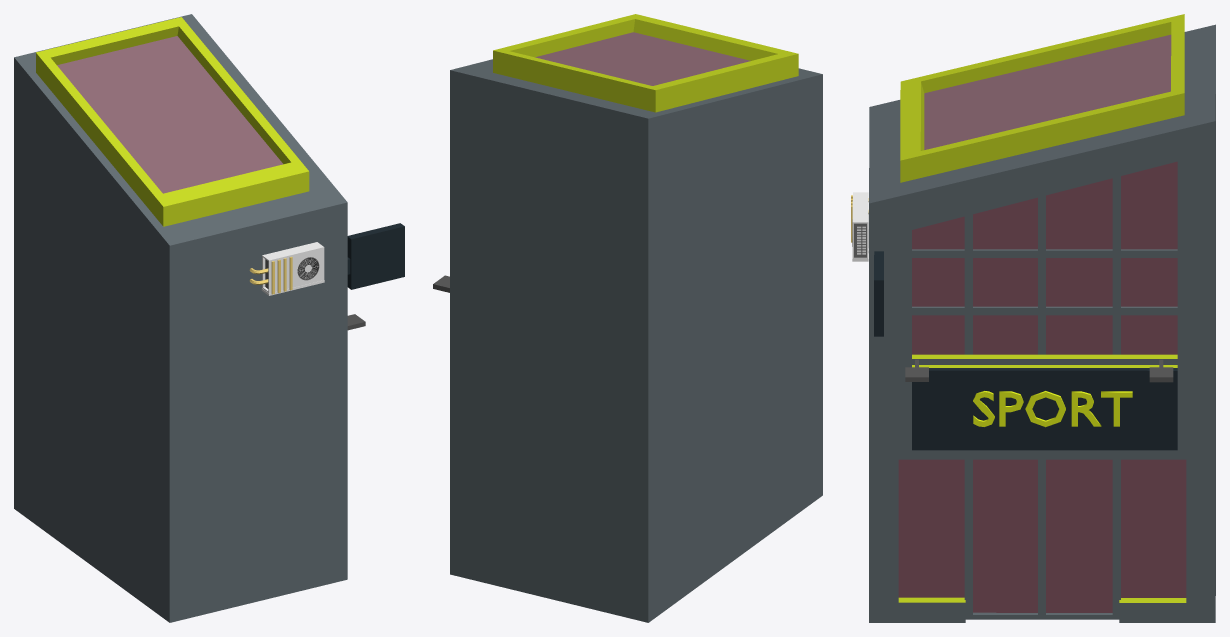
File: Sports_Shop_tran.glb
3 renders of one model, left to right at view 1: azimuth 30°, elevation 25°; view 2: azimuth 150°, elevation 25°; view 3: azimuth 270°, elevation 25°, orthographic. The views are drawn at different scales.
Parts seen in each view (by area): view 1: Cube.13002, Cube.12997, Cube.13000, Cube.13883; view 2: Cube.13002, Cube.12997; view 3: Cube.13002, Cube.12997, Cube.13001, Cube.12998, Text.054, Cube.13883, Cube.13000.
Part boxes in pixels (bbox=[...]): Cube.13002: bbox=[14, 14, 347, 622]; Cube.12997: bbox=[36, 17, 309, 226]; Cube.13000: bbox=[347, 223, 404, 289]; Cube.13883: bbox=[249, 242, 324, 295]; Cube.13002: bbox=[450, 59, 822, 622]; Cube.12997: bbox=[493, 14, 798, 112]; Cube.13002: bbox=[869, 24, 1215, 622]; Cube.12997: bbox=[900, 14, 1184, 182]; Cube.13001: bbox=[912, 365, 1177, 450]; Cube.12998: bbox=[912, 176, 1177, 619]; Text.054: bbox=[973, 391, 1132, 427]; Cube.13883: bbox=[851, 192, 868, 261]; Cube.13000: bbox=[874, 251, 883, 336].
Bounding box in the file's own units: 0.1646 × 0.3088 × 0.1972.
